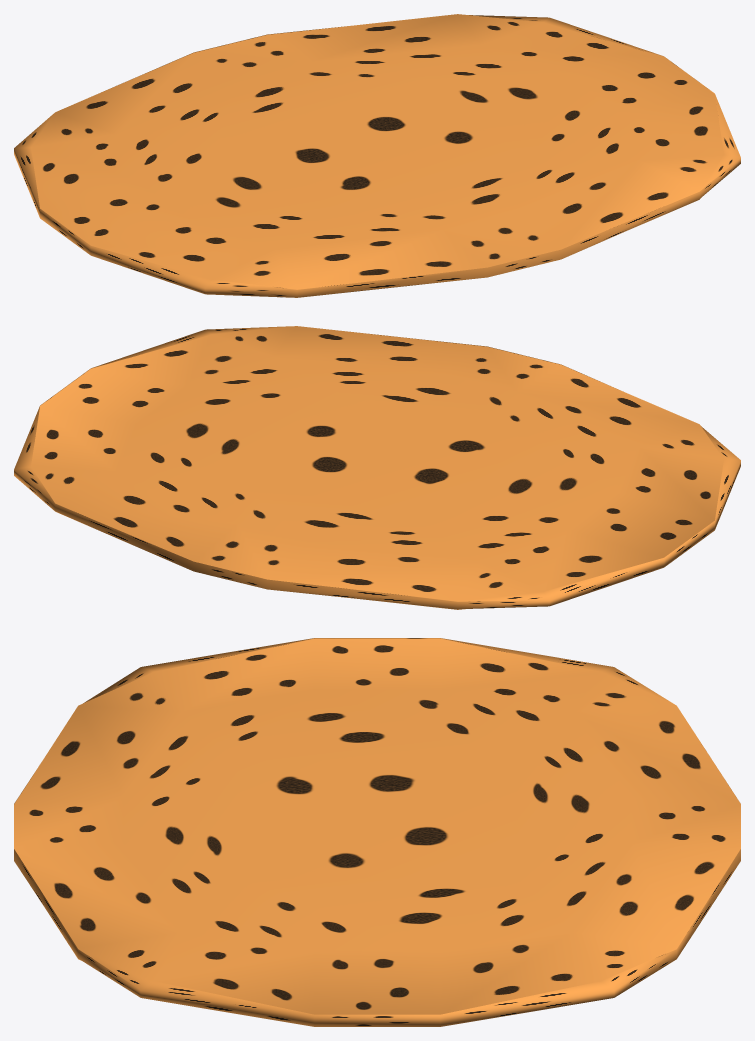
File: plattform.fbx
The picture shows the model from 3 angles, top to bottom: view 1: azimuth 30°, elevation 25°; view 2: azimuth 150°, elevation 25°; view 3: azimuth 270°, elevation 25°; orthographic projection. The views are drawn at different scales.
Visible parts, largest first — view 1: Cube; view 2: Cube; view 3: Cube.
Part boxes in pixels (bbox=[...]): Cube: bbox=[14, 14, 740, 297]; Cube: bbox=[14, 326, 740, 609]; Cube: bbox=[14, 638, 740, 1026].
Size of the model in its own units: 2.48 by 0.0806 by 2.02.
Materials: 1 (1 with a texture image).
